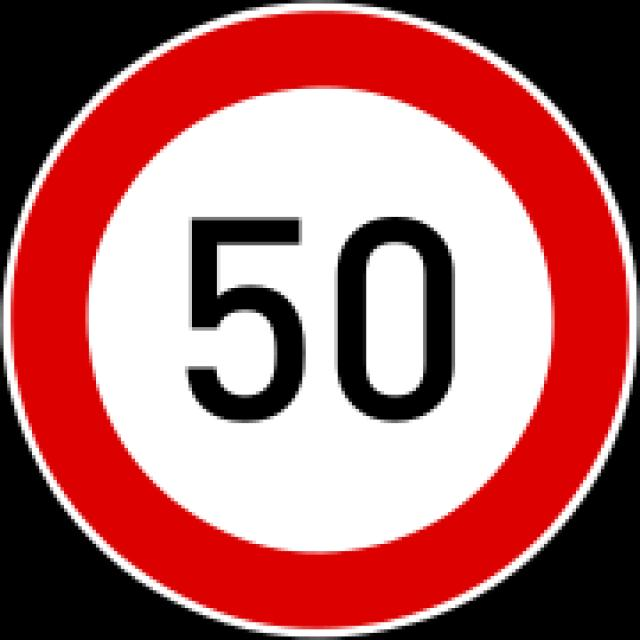Speed Limit -50-: (155, 191, 490, 436)
